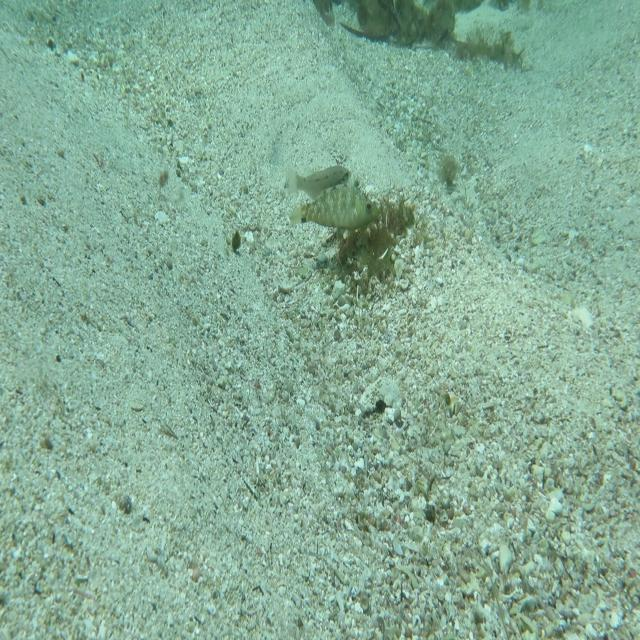ROLL: (284, 170, 383, 236)
female: (284, 157, 354, 205)
nest: (318, 180, 421, 316)
